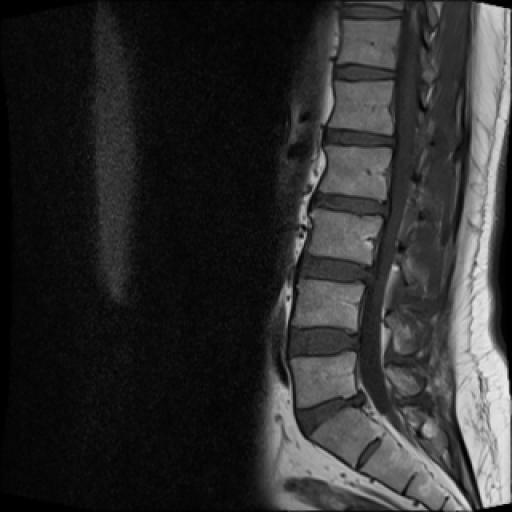L1: (328, 81, 394, 135)
L2: (320, 148, 390, 200)
L3: (307, 210, 380, 264)
L4: (292, 278, 364, 332)
L5: (290, 352, 357, 408)
S1: (310, 407, 383, 466)
